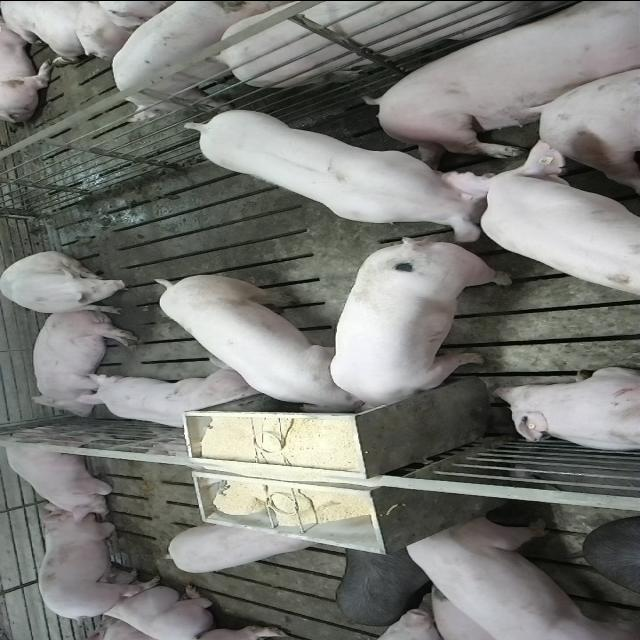Feeding: (329, 243, 515, 420), (146, 269, 362, 411)
Lateral_lying: (366, 3, 640, 165), (28, 307, 140, 418)
Sitting: (0, 422, 127, 516), (2, 251, 136, 315)
Standing: (181, 106, 507, 242), (212, 0, 608, 88), (397, 516, 635, 638), (474, 146, 640, 292), (103, 0, 270, 116), (33, 509, 160, 618), (160, 522, 320, 576), (333, 546, 432, 626)
Sternal_lying: (490, 366, 640, 454), (78, 362, 264, 432), (85, 581, 212, 639)
